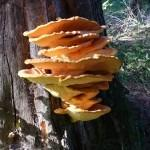Sulphur-yellow tinder fungus: (18, 16, 120, 121)
